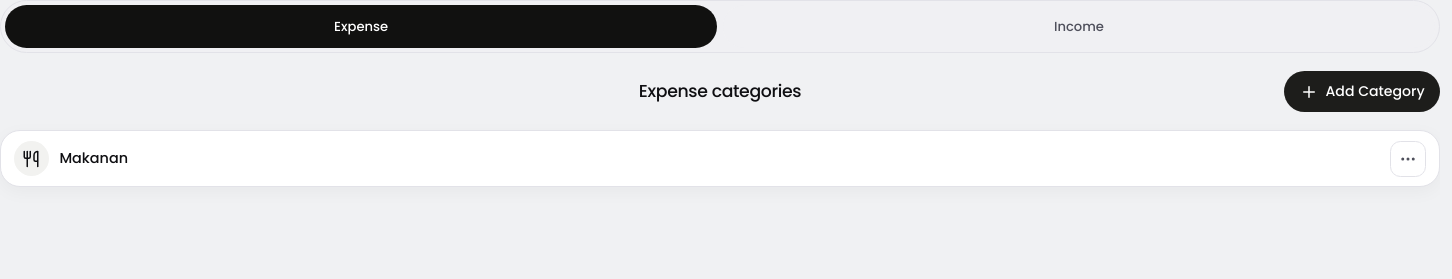
Test: category manager › shows an inline empty state for an empty selected tab
Step 1. Click the tab "Income" → (1079, 27), box [723, 5, 1435, 48]
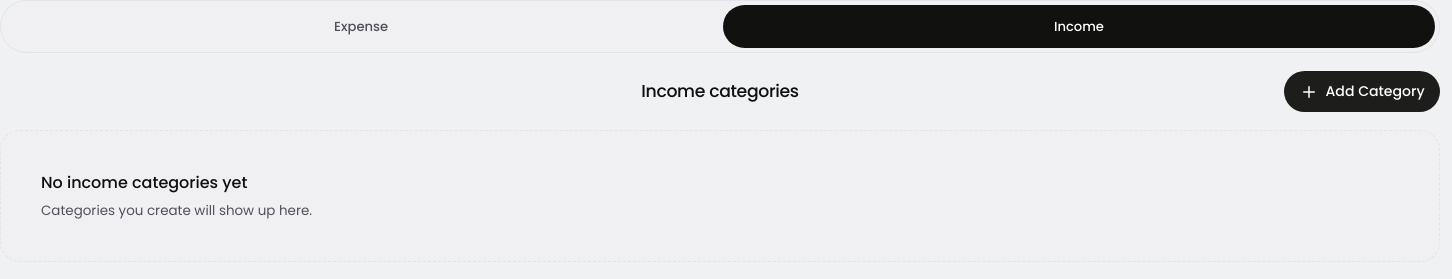
Expected: the heading "No income categories yet" is shown, [41, 171, 247, 194]
Expected: the text "Categories you create will show up here." is shown, [41, 201, 312, 220]
